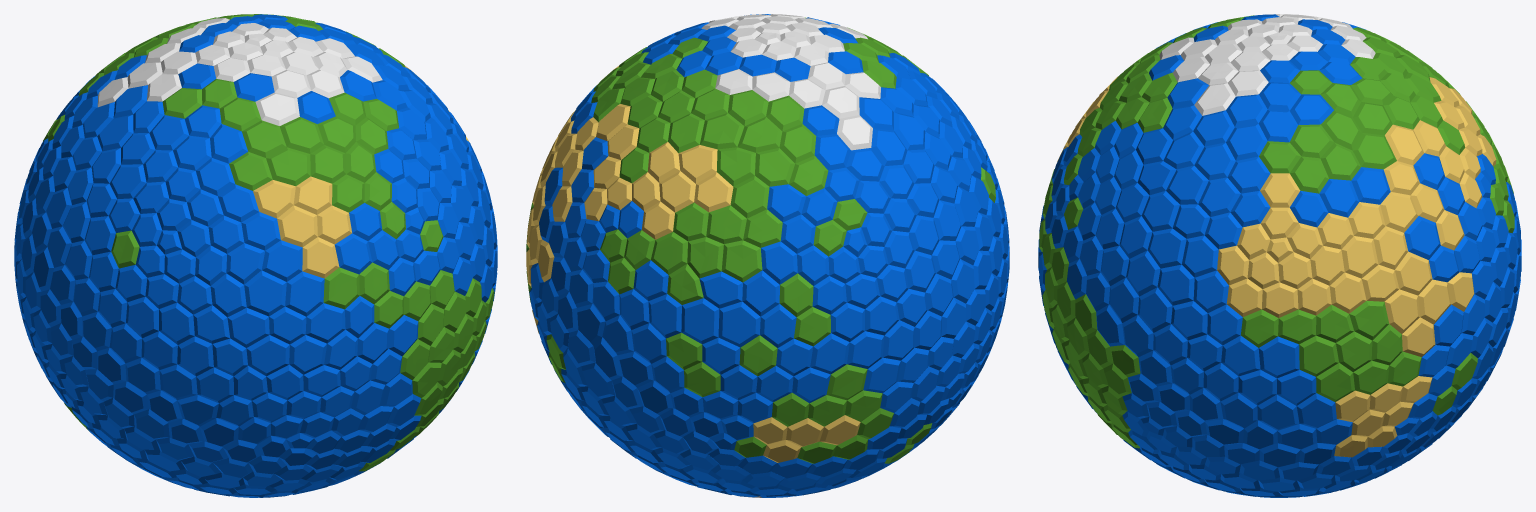
File: earth.glb
The picture shows the model from 3 angles, left to right: view 1: azimuth 30°, elevation 25°; view 2: azimuth 150°, elevation 25°; view 3: azimuth 270°, elevation 25°; orthographic projection.
Visible parts, largest first — view 1: Earth; view 2: Earth; view 3: Earth.
Boxes of the visible parts, x1,y1,x2,y2 form: Earth: (14, 14, 497, 497); Earth: (526, 14, 1009, 497); Earth: (1038, 14, 1521, 497).
Size of the model in its own units: 7.22 by 7.24 by 7.22.
